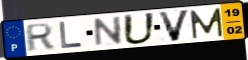L: (58, 20, 84, 50)
M: (188, 7, 225, 40)
N: (92, 15, 124, 48)
R: (25, 22, 55, 53)
U: (122, 11, 157, 46)
V: (156, 9, 192, 43)
